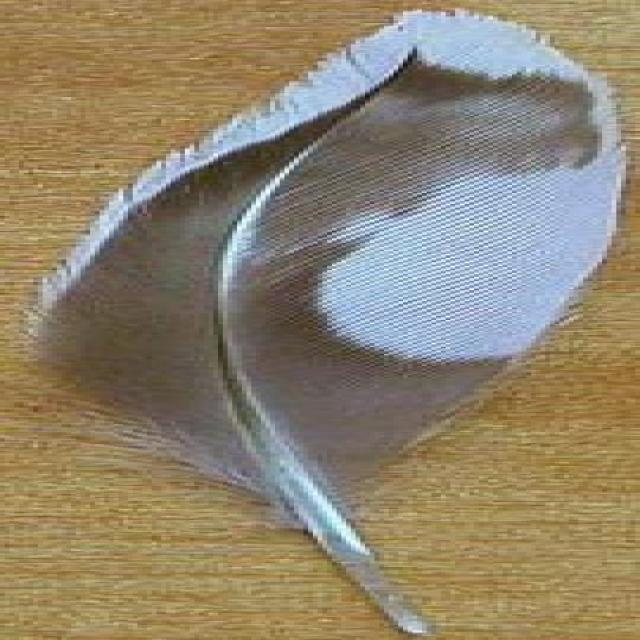feather: (26, 9, 640, 636)
